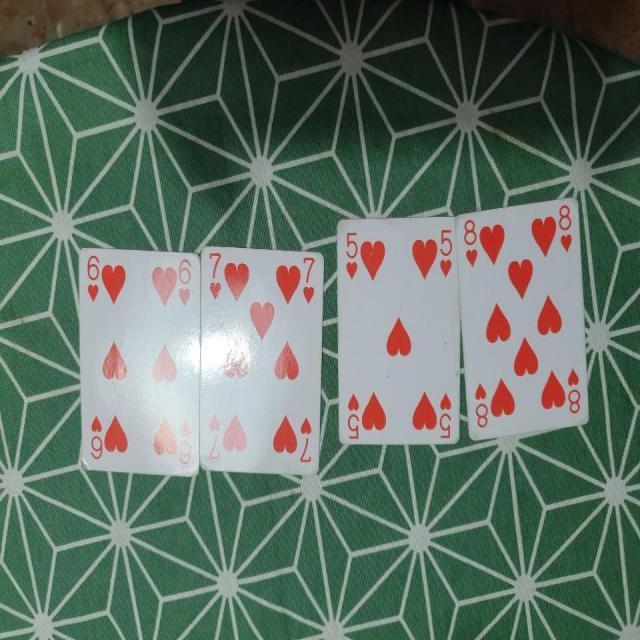5 of hearts: (332, 197, 462, 451)
6 of hearts: (76, 241, 206, 484)
7 of hearts: (196, 235, 328, 478)
8 of hearts: (452, 203, 594, 449)
